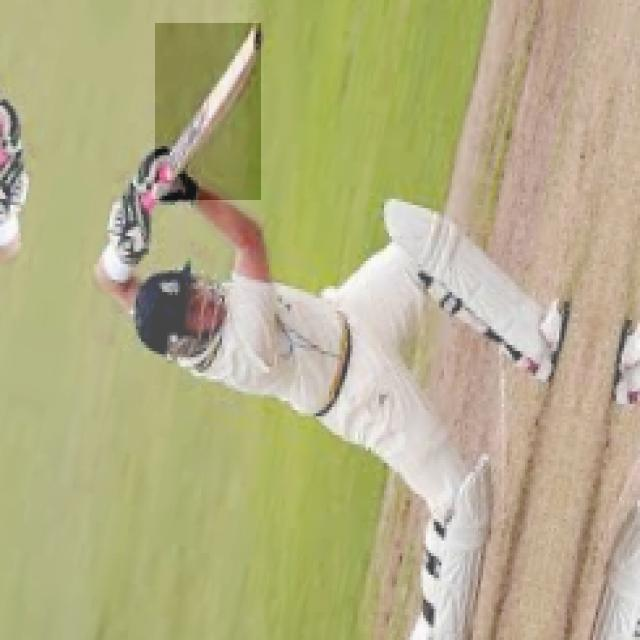bat: (155, 25, 263, 199)
toe: (254, 25, 264, 48)
